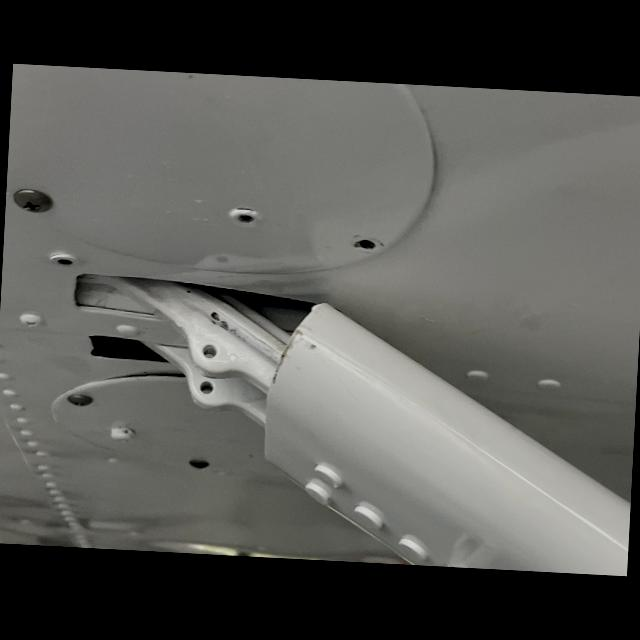Missing Fastener: (342, 231, 386, 255)
